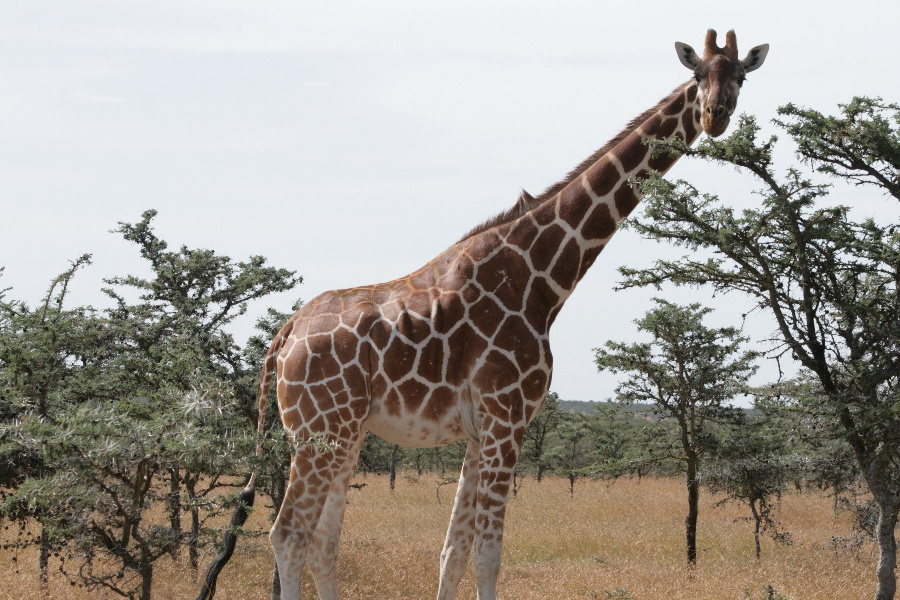giraffe: (223, 10, 777, 599)
